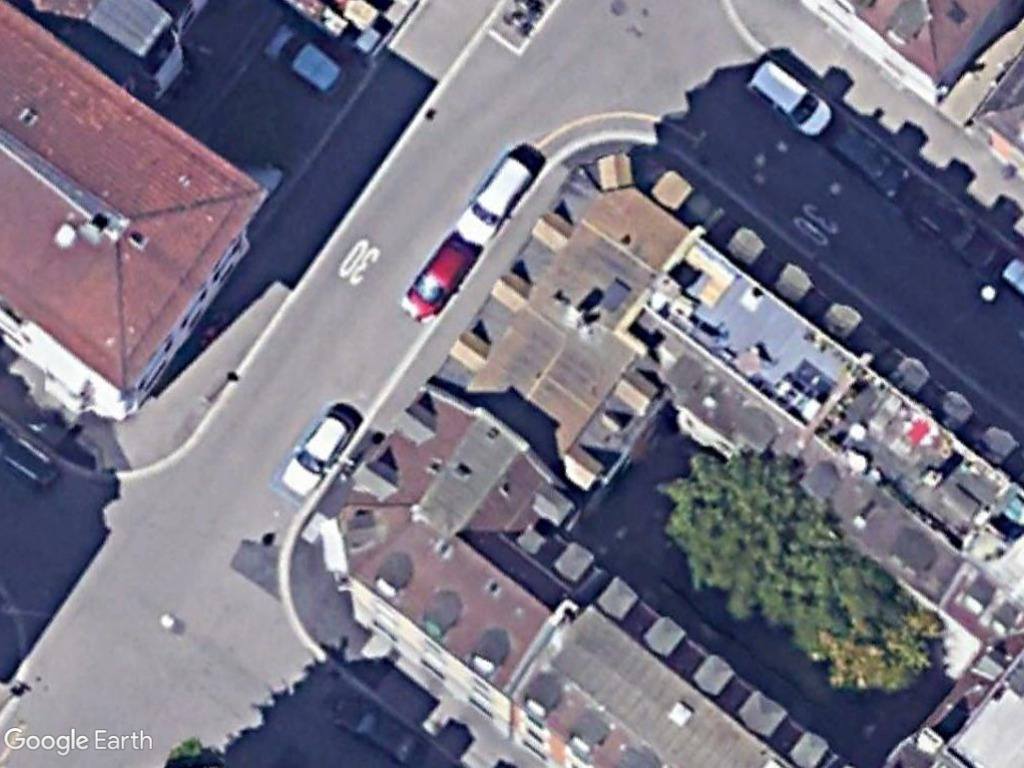car: (449, 150, 535, 248), (277, 404, 358, 501), (741, 54, 833, 139), (397, 232, 480, 325), (263, 25, 349, 100)
